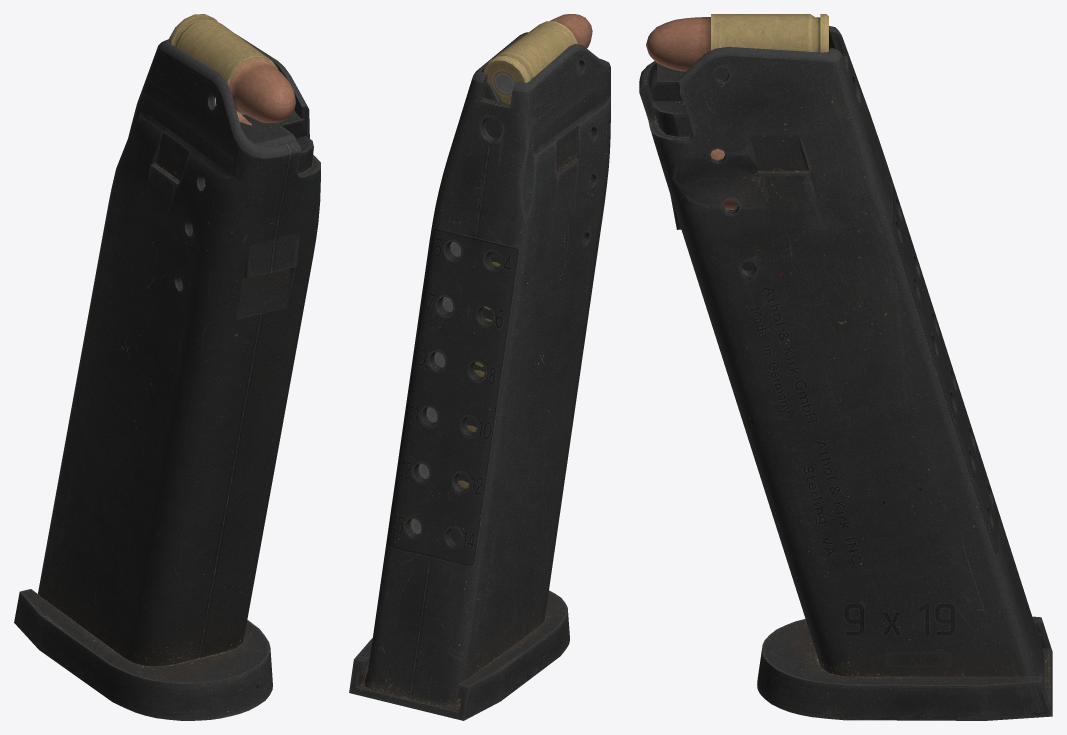
Rendered from Magazine.fbx.
3 views of the same model, side by side, from view 1: azimuth 30°, elevation 25°; view 2: azimuth 150°, elevation 25°; view 3: azimuth 270°, elevation 25° (orthographic). The views are drawn at different scales.
Parts seen in each view (by area): view 1: renderMesh0.050, B1, Piston; view 2: renderMesh0.050, B1, Piston; view 3: renderMesh0.050, B1, Piston.
Part boxes in pixels (<box>): renderMesh0.050: <box>14,34,320,720</box>; B1: <box>168,14,295,122</box>; Piston: <box>140,93,313,173</box>; renderMesh0.050: <box>349,32,610,720</box>; B1: <box>483,14,592,104</box>; Piston: <box>484,62,606,156</box>; renderMesh0.050: <box>639,26,1052,720</box>; B1: <box>646,14,828,71</box>; Piston: <box>649,63,728,136</box>.
Bounding box in the file's own units: 1.11 × 4.69 × 2.64.
Materials: 3 (3 with a texture image).
